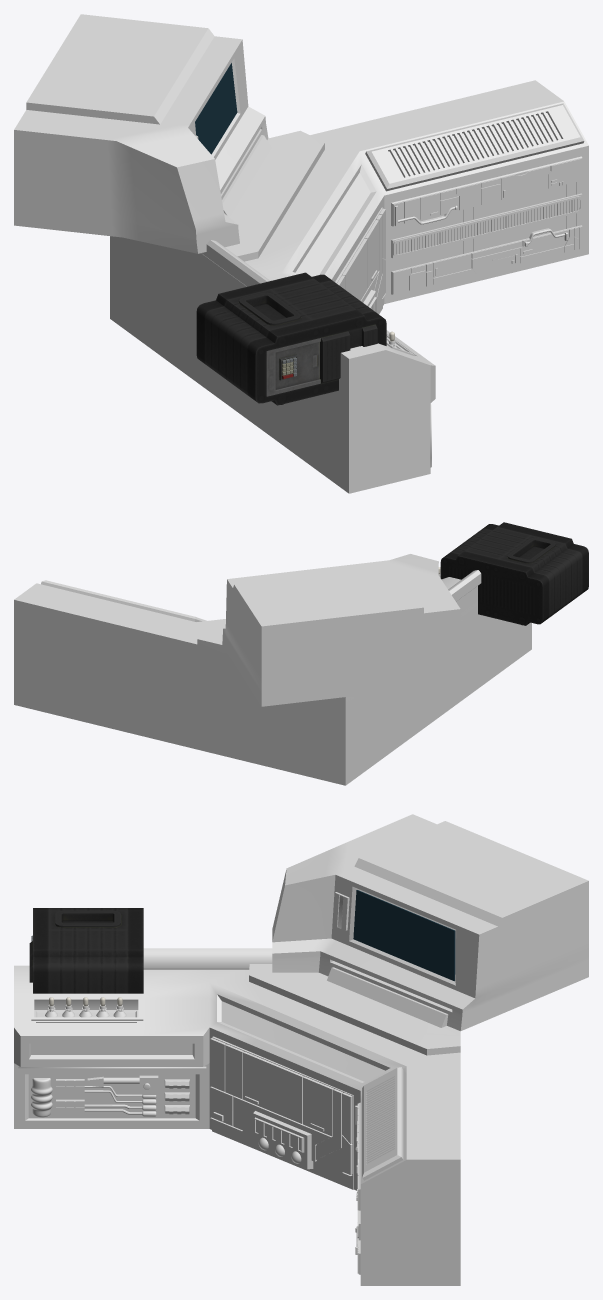
Rendered from Energy Machine Combined V2.fbx.
The picture shows the model from 3 angles, top to bottom: view 1: azimuth 30°, elevation 25°; view 2: azimuth 150°, elevation 25°; view 3: azimuth 270°, elevation 25°; orthographic projection. The views are drawn at different scales.
Visible parts, largest first — view 1: Main Good, Tile_03.003, Hardware Device.001, Cube.007, Cube.005; view 2: Main Good, Hardware Device.001, Cube.005; view 3: Main Good, Tile_03.003, Hardware Device.001, Cube.007, Cube.005.
Part boxes in pixels (x1,y1,x2,y2): Main Good: (14, 14, 588, 493); Tile_03.003: (335, 156, 582, 467); Hardware Device.001: (196, 272, 386, 405); Cube.007: (195, 63, 237, 154); Cube.005: (201, 240, 270, 286); Main Good: (14, 554, 531, 785); Hardware Device.001: (440, 522, 588, 625); Cube.005: (448, 570, 481, 601); Main Good: (14, 814, 588, 1285); Tile_03.003: (18, 1036, 360, 1274); Hardware Device.001: (29, 908, 143, 993); Cube.007: (353, 890, 455, 981); Cube.005: (143, 948, 272, 969).
Bounding box in the file's own units: 452 × 193 × 440.
